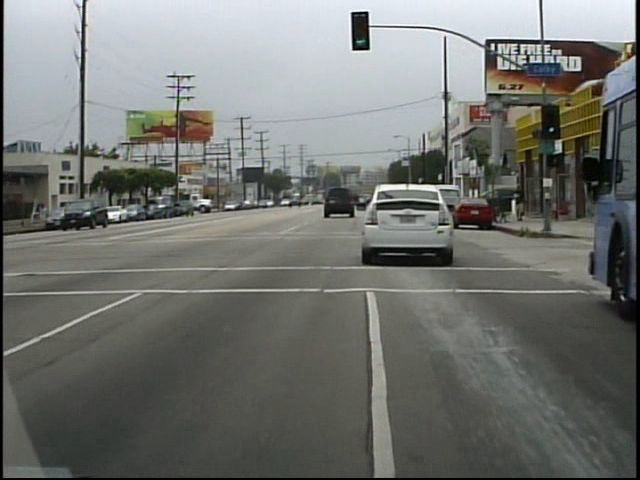person: (511, 180, 532, 229), (47, 201, 48, 229)
